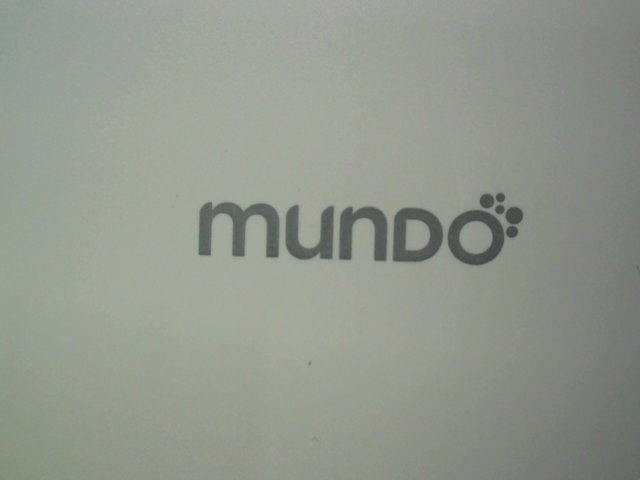BI_MUNDO: (176, 168, 532, 269)
